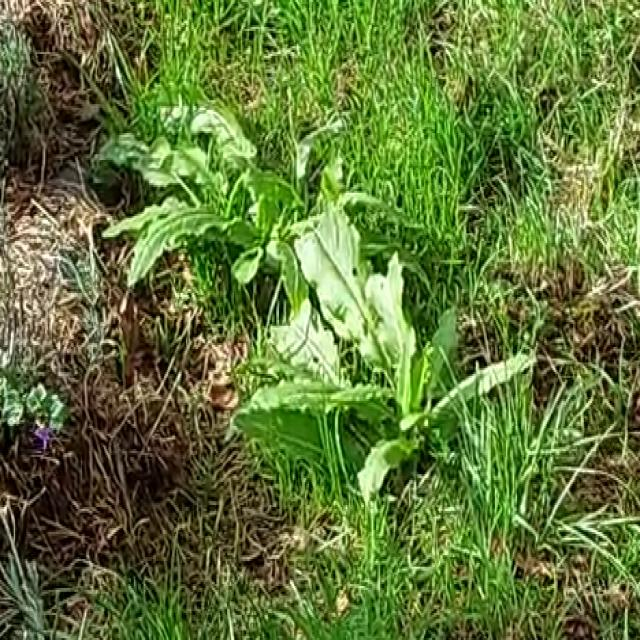organic waste: (219, 170, 511, 551), (78, 83, 332, 318)
